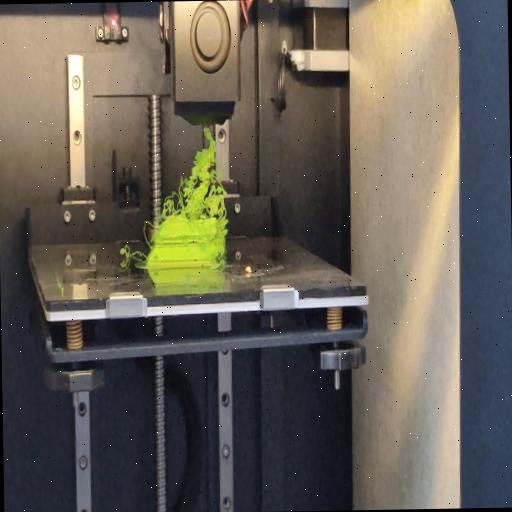spaghetti: (156, 122, 230, 226), (116, 244, 147, 264), (216, 223, 228, 269), (142, 216, 155, 246)
